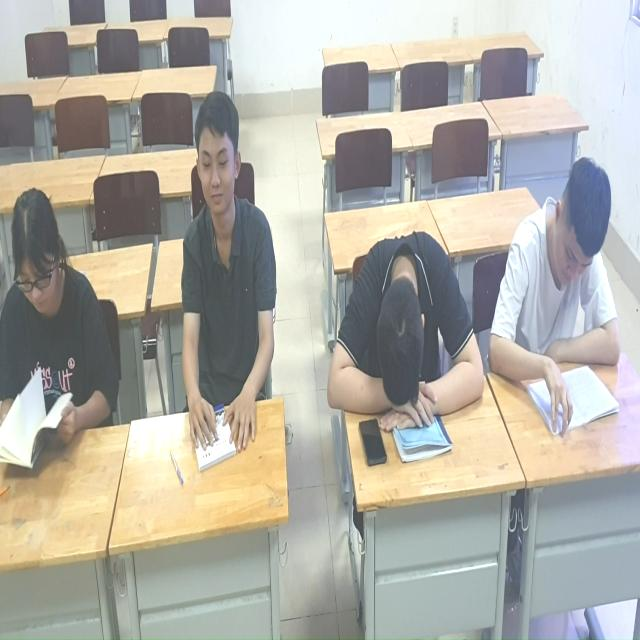read: (485, 126, 635, 431), (177, 83, 288, 447), (1, 161, 128, 459)
sleep: (329, 212, 479, 439)
